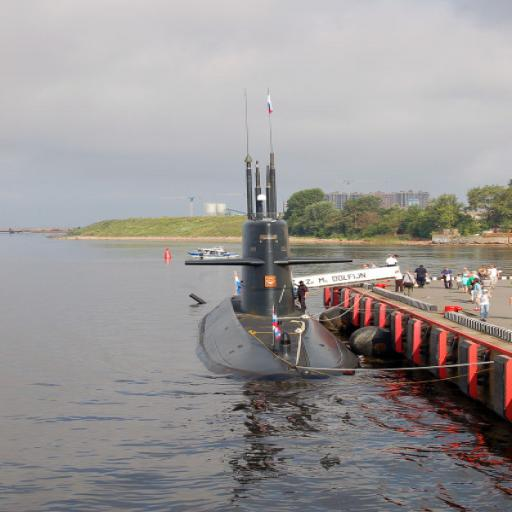submarine: (168, 121, 359, 385)
